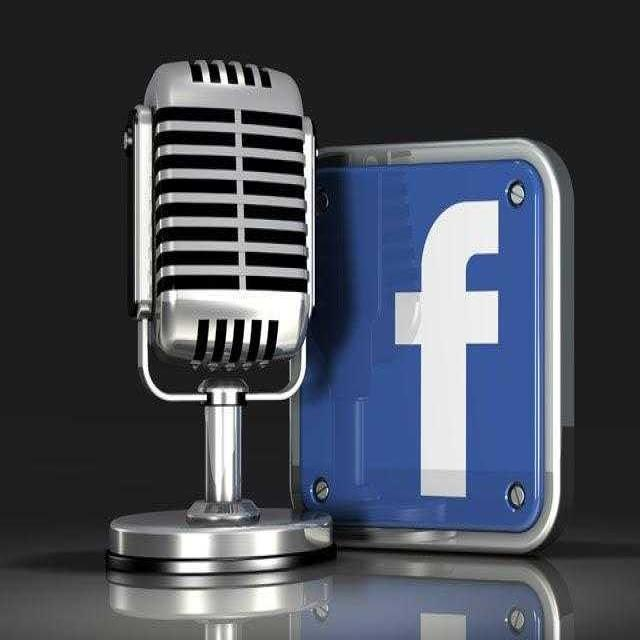microphone: (128, 63, 310, 383)
